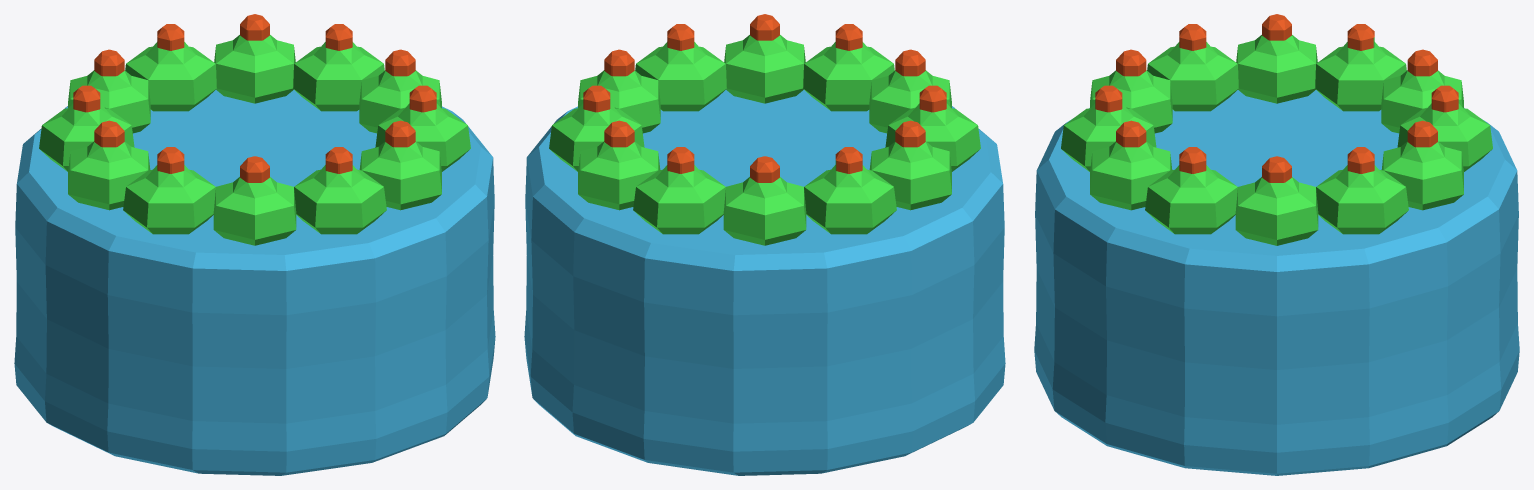
File: tort.fbx
The picture shows the model from 3 angles, left to right: view 1: azimuth 30°, elevation 25°; view 2: azimuth 150°, elevation 25°; view 3: azimuth 270°, elevation 25°; orthographic projection.
Visible parts, largest first — view 1: Cylinder; view 2: Cylinder; view 3: Cylinder.
Part boxes in pixels (bbox=[...]): Cylinder: bbox=[14, 14, 495, 475]; Cylinder: bbox=[524, 14, 1005, 475]; Cylinder: bbox=[1034, 14, 1519, 475].
Size of the model in its own units: 202 by 133 by 202.
